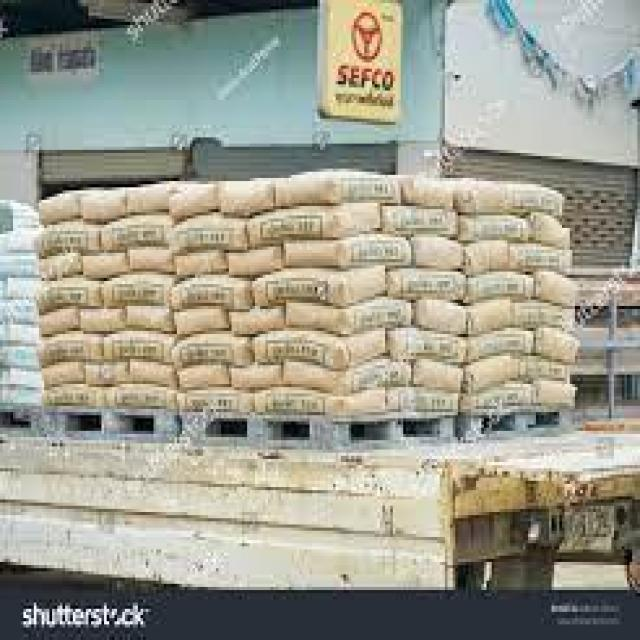gunny_bag: (258, 327, 384, 373), (251, 204, 381, 247), (255, 269, 387, 304), (289, 301, 411, 334), (286, 238, 410, 270), (277, 180, 400, 206), (103, 333, 174, 370), (394, 330, 464, 366), (172, 279, 248, 311), (180, 337, 251, 371), (466, 327, 531, 363), (104, 220, 172, 254), (385, 207, 459, 238), (467, 271, 534, 305), (466, 355, 520, 396), (180, 219, 242, 254), (105, 278, 172, 310), (392, 272, 465, 301), (39, 333, 98, 368), (180, 389, 251, 417), (257, 388, 322, 418), (399, 387, 458, 419), (329, 388, 384, 422), (469, 243, 525, 276), (533, 327, 582, 364), (38, 281, 96, 312), (460, 217, 528, 243), (534, 275, 578, 315), (472, 301, 523, 335), (38, 228, 97, 256), (284, 365, 343, 393), (222, 184, 273, 216), (229, 245, 278, 278), (418, 302, 465, 336), (516, 188, 564, 219), (416, 360, 462, 392), (171, 187, 217, 218), (459, 188, 509, 216), (123, 384, 176, 410), (175, 312, 228, 337), (527, 247, 571, 277), (407, 178, 451, 208), (82, 191, 125, 221), (177, 364, 226, 390), (416, 242, 461, 269), (524, 306, 574, 330), (82, 253, 128, 279), (536, 380, 576, 409), (233, 311, 283, 334), (233, 367, 280, 391), (535, 220, 572, 250), (39, 198, 81, 224), (89, 360, 127, 388), (523, 361, 569, 384), (130, 190, 169, 217), (129, 250, 172, 274), (39, 311, 79, 335), (126, 311, 169, 333), (44, 253, 79, 280), (83, 309, 124, 332), (50, 384, 88, 408)
